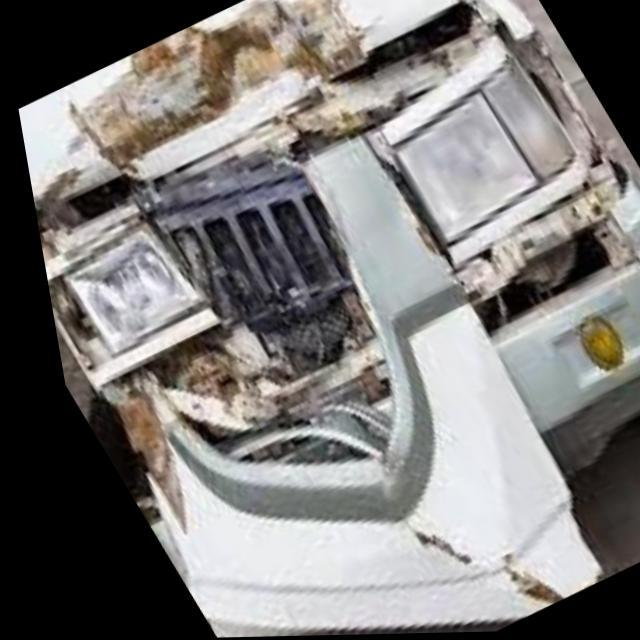dislocated part: (15, 0, 640, 638)
